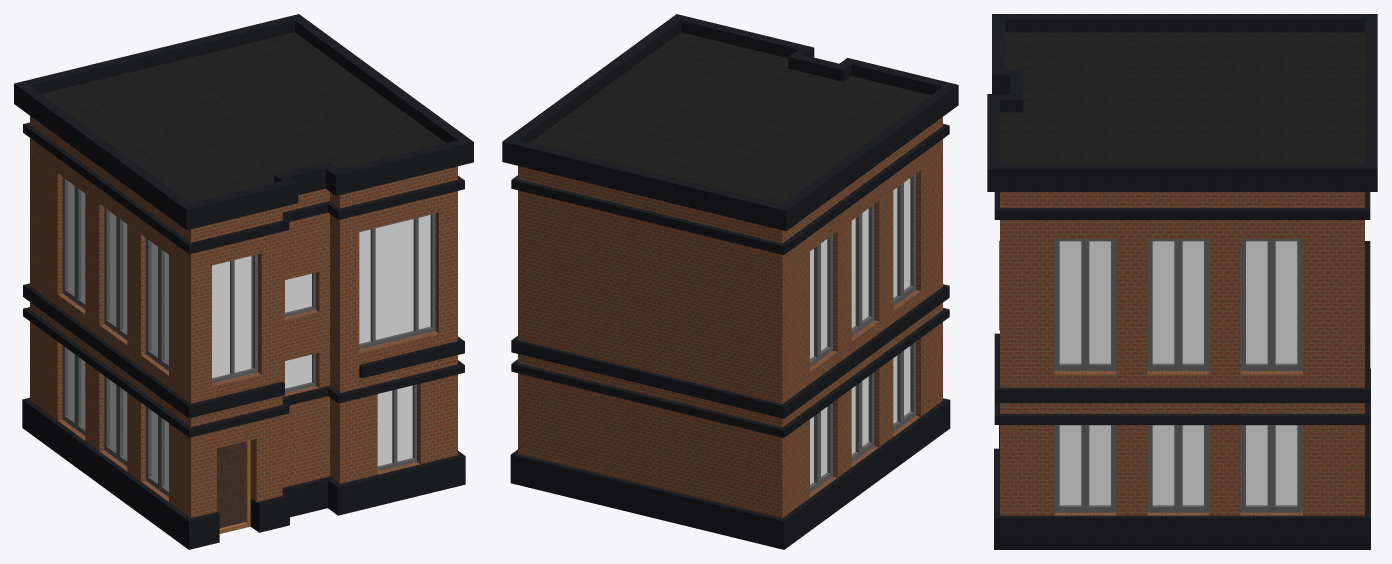
The picture shows the model from 3 angles, left to right: view 1: azimuth 30°, elevation 25°; view 2: azimuth 150°, elevation 25°; view 3: azimuth 270°, elevation 25°; orthographic projection. The views are drawn at different scales.
Parts seen in each view (by area): view 1: Cube_0, Cube.001_1, Cube.002_2, Cube.003_3, Cube.005_5, Cube.004_4, Cube.006_6; view 2: Cube_0, Cube.001_1, Cube.002_2, Cube.003_3; view 3: Cube_0, Cube.001_1, Cube.003_3, Cube.002_2.
Part boxes in pixels (left/top/right/bottom): Cube_0: left=22, top=116, right=465, bottom=549; Cube.001_1: left=42, top=32, right=445, bottom=202; Cube.002_2: left=14, top=14, right=473, bottom=230; Cube.003_3: left=68, top=181, right=430, bottom=488; Cube.005_5: left=217, top=441, right=245, bottom=528; Cube.004_4: left=212, top=254, right=257, bottom=383; Cube.006_6: left=219, top=440, right=250, bottom=533; Cube_0: left=510, top=117, right=950, bottom=549; Cube.001_1: left=530, top=32, right=930, bottom=203; Cube.002_2: left=502, top=14, right=958, bottom=231; Cube.003_3: left=810, top=178, right=910, bottom=484; Cube_0: left=994, top=192, right=1370, bottom=549; Cube.001_1: left=1000, top=32, right=1364, bottom=163; Cube.003_3: left=1059, top=241, right=1297, bottom=505; Cube.002_2: left=987, top=14, right=1377, bottom=191.
Size of the model in its own units: 13.85 by 15.95 by 14.71.
Materials: 7 (5 with a texture image).
